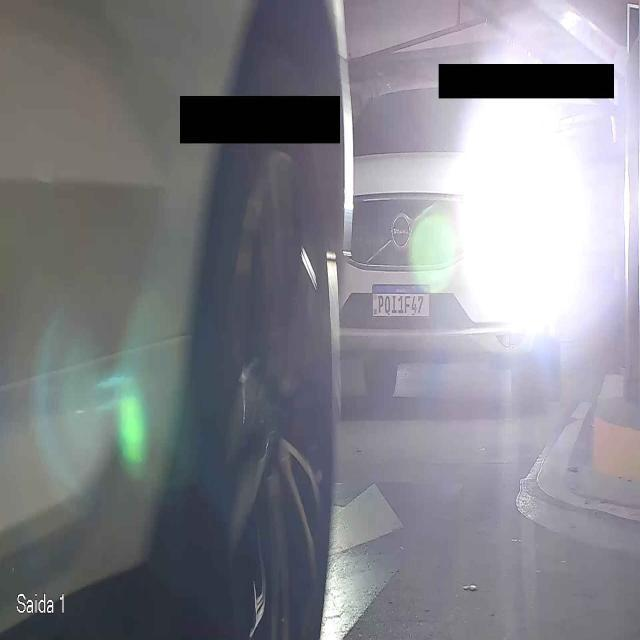mercosul_plate: (370, 283, 434, 318)
